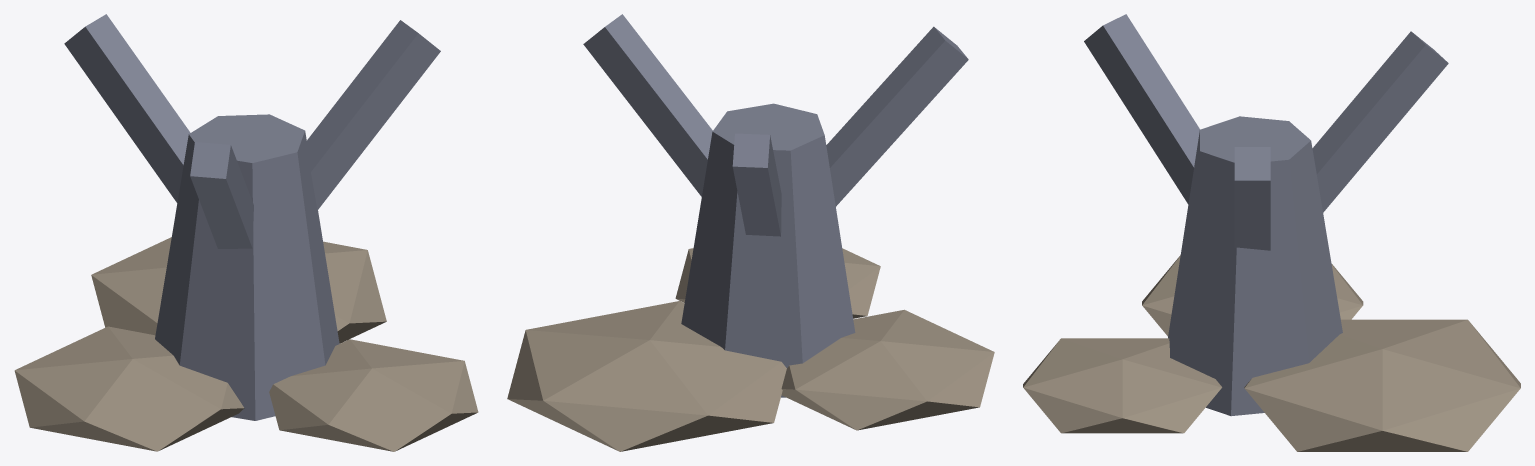
Rendered from 11_PeatStump.glb.
3 renders of one model, left to right at view 1: azimuth 30°, elevation 25°; view 2: azimuth 150°, elevation 25°; view 3: azimuth 270°, elevation 25°, orthographic. The views are drawn at different scales.
Parts seen in each view (by area): view 1: 11_PeatStump; view 2: 11_PeatStump; view 3: 11_PeatStump.
Boxes of the visible parts, x1,y1,x2,y2 form: 11_PeatStump: (14,14,478,451); 11_PeatStump: (507,14,994,451); 11_PeatStump: (1023,14,1520,451).
Bounding box in the file's own units: 7.02 × 5.52 × 7.66.
